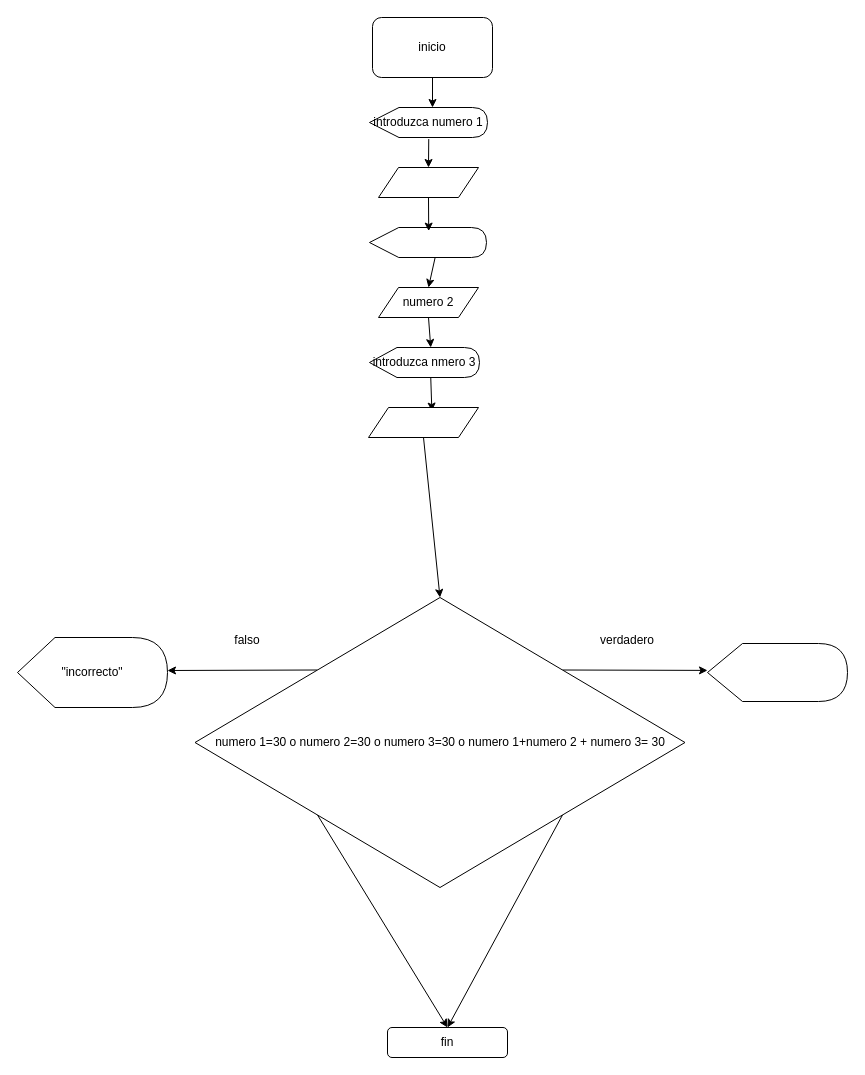
Image size: 865x1075. Some labels were removed from this diagram. Here are the shapes that lost their labels. From the top down, the centre of each, then its label:
point (428, 182): numero 1
point (427, 242): introduzca numero 2
point (423, 422): numero 3
point (777, 672): "correcto"
